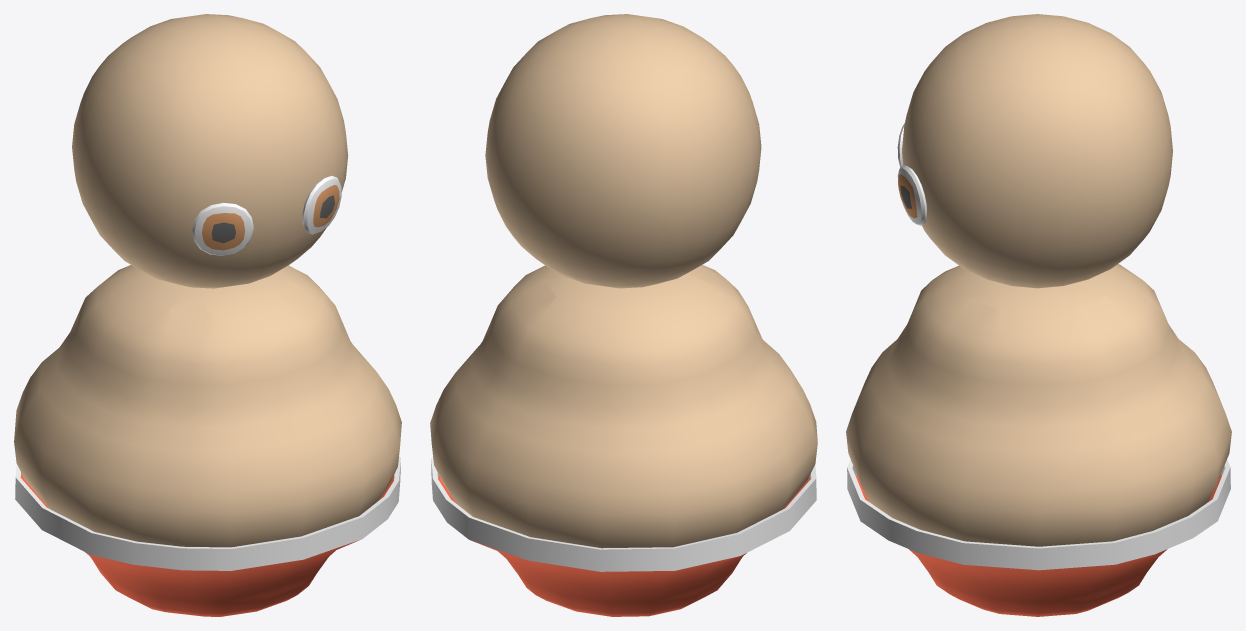
The model's file is şişko brezilyalı.fbx.
3 renders of one model, left to right at view 1: azimuth 30°, elevation 25°; view 2: azimuth 150°, elevation 25°; view 3: azimuth 270°, elevation 25°, orthographic.
Parts seen in each view (by area): view 1: Cube.037; view 2: Cube.037; view 3: Cube.037.
Part boxes in pixels (x1,y1,x2,y2): Cube.037: (14, 14, 401, 616); Cube.037: (430, 14, 817, 616); Cube.037: (846, 14, 1231, 616).
Bounding box in the file's own units: 227 × 363 × 227.
